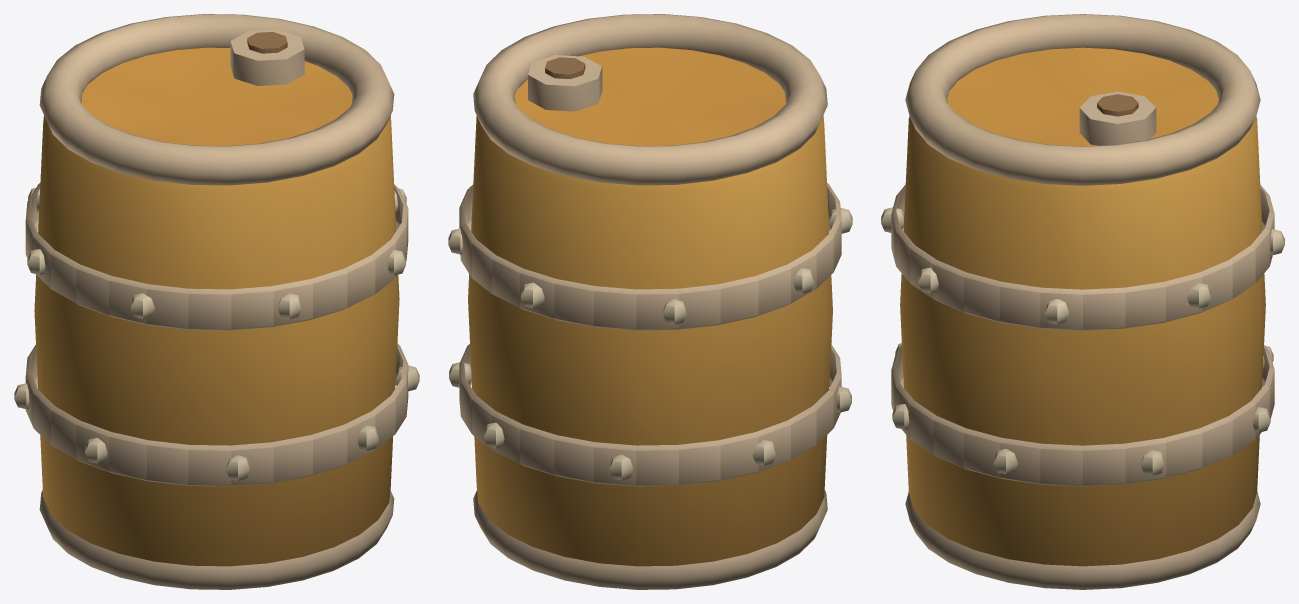
Rendered from cen_valak_barril_2.glb.
The picture shows the model from 3 angles, left to right: view 1: azimuth 30°, elevation 25°; view 2: azimuth 150°, elevation 25°; view 3: azimuth 270°, elevation 25°; orthographic projection.
Parts seen in each view (by area): view 1: barril; view 2: barril; view 3: barril.
Part boxes in pixels (x1,y1,x2,y2): barril: (14, 14, 419, 589); barril: (448, 14, 852, 589); barril: (881, 14, 1284, 589).
Size of the model in its own units: 1.17 by 1.43 by 1.16.
